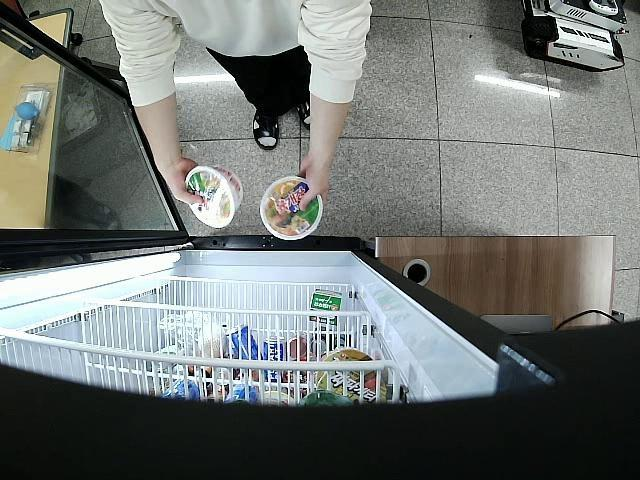09_yukGaeJang: (260, 176, 323, 241), (185, 164, 242, 228)
